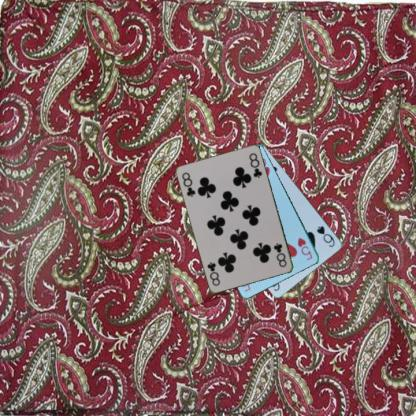5h: (295, 235, 314, 262)
6s: (314, 224, 336, 248)
8c: (271, 240, 288, 269), (180, 170, 197, 198)
